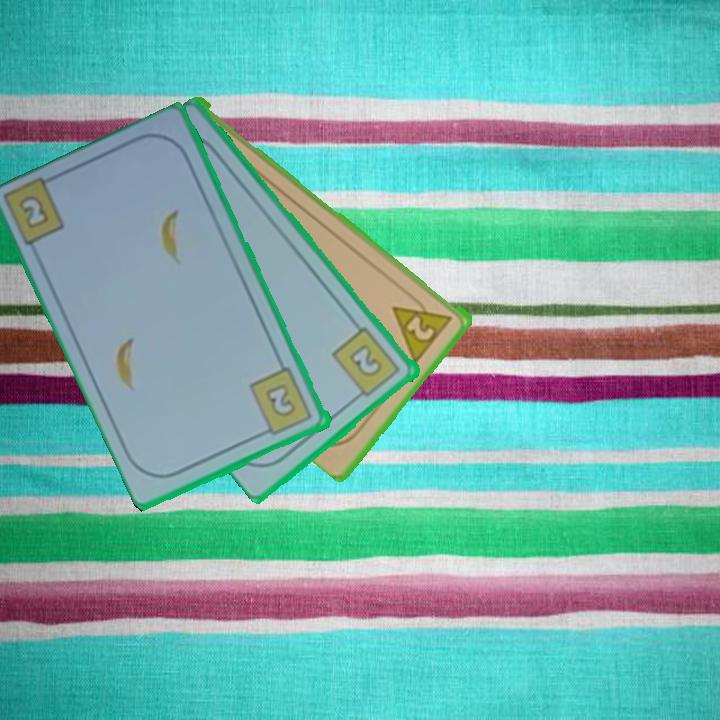2b: (329, 323, 404, 404), (246, 364, 316, 440), (15, 191, 53, 232)
2p: (389, 289, 456, 365)
